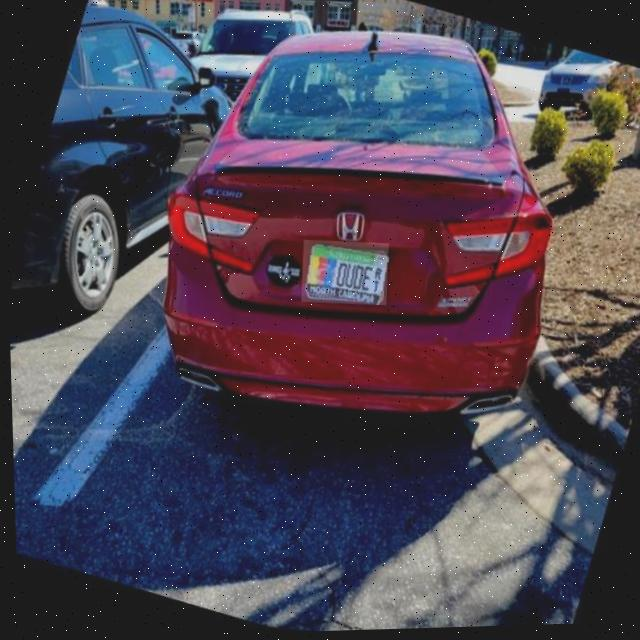LicensePlate: (300, 242, 386, 307)
